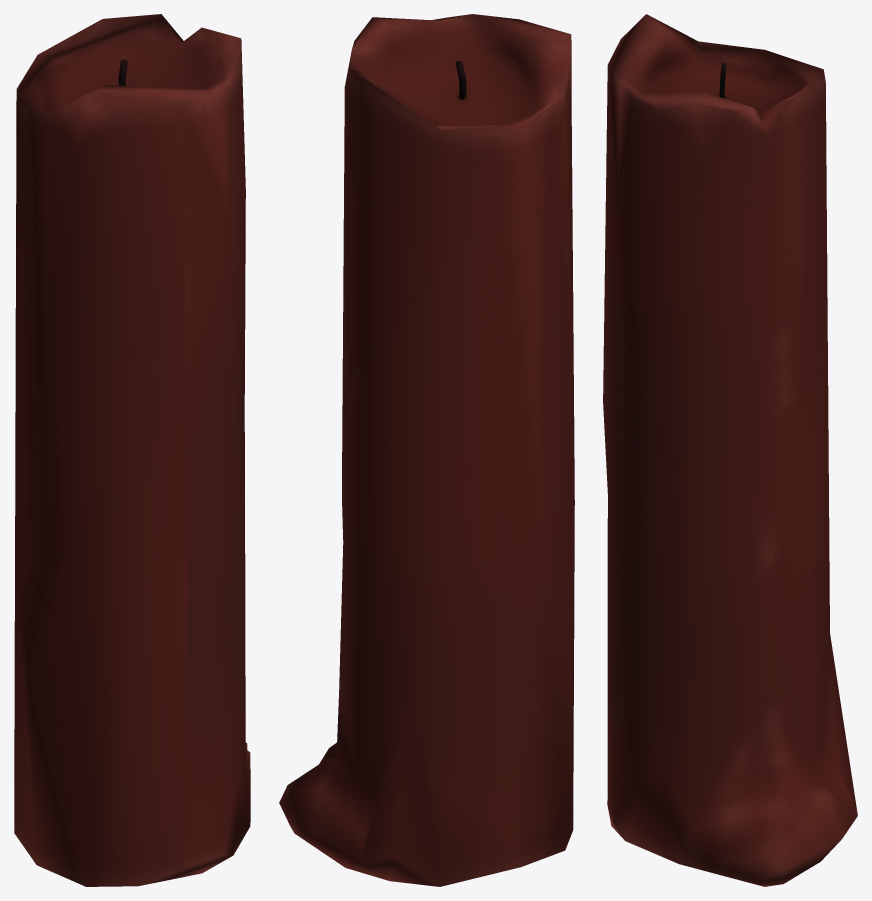
The model's file is SM_Candles_1.fbx.
3 renders of one model, left to right at view 1: azimuth 30°, elevation 25°; view 2: azimuth 150°, elevation 25°; view 3: azimuth 270°, elevation 25°, orthographic. The views are drawn at different scales.
Parts seen in each view (by area): view 1: SM_Candles_1_LOD0; view 2: SM_Candles_1_LOD0; view 3: SM_Candles_1_LOD0.
Part boxes in pixels (x1,y1,x2,y2): SM_Candles_1_LOD0: [14, 14, 250, 886]; SM_Candles_1_LOD0: [279, 14, 574, 886]; SM_Candles_1_LOD0: [603, 14, 857, 886].
Size of the model in its own units: 10.19 by 9.21 by 31.08.
